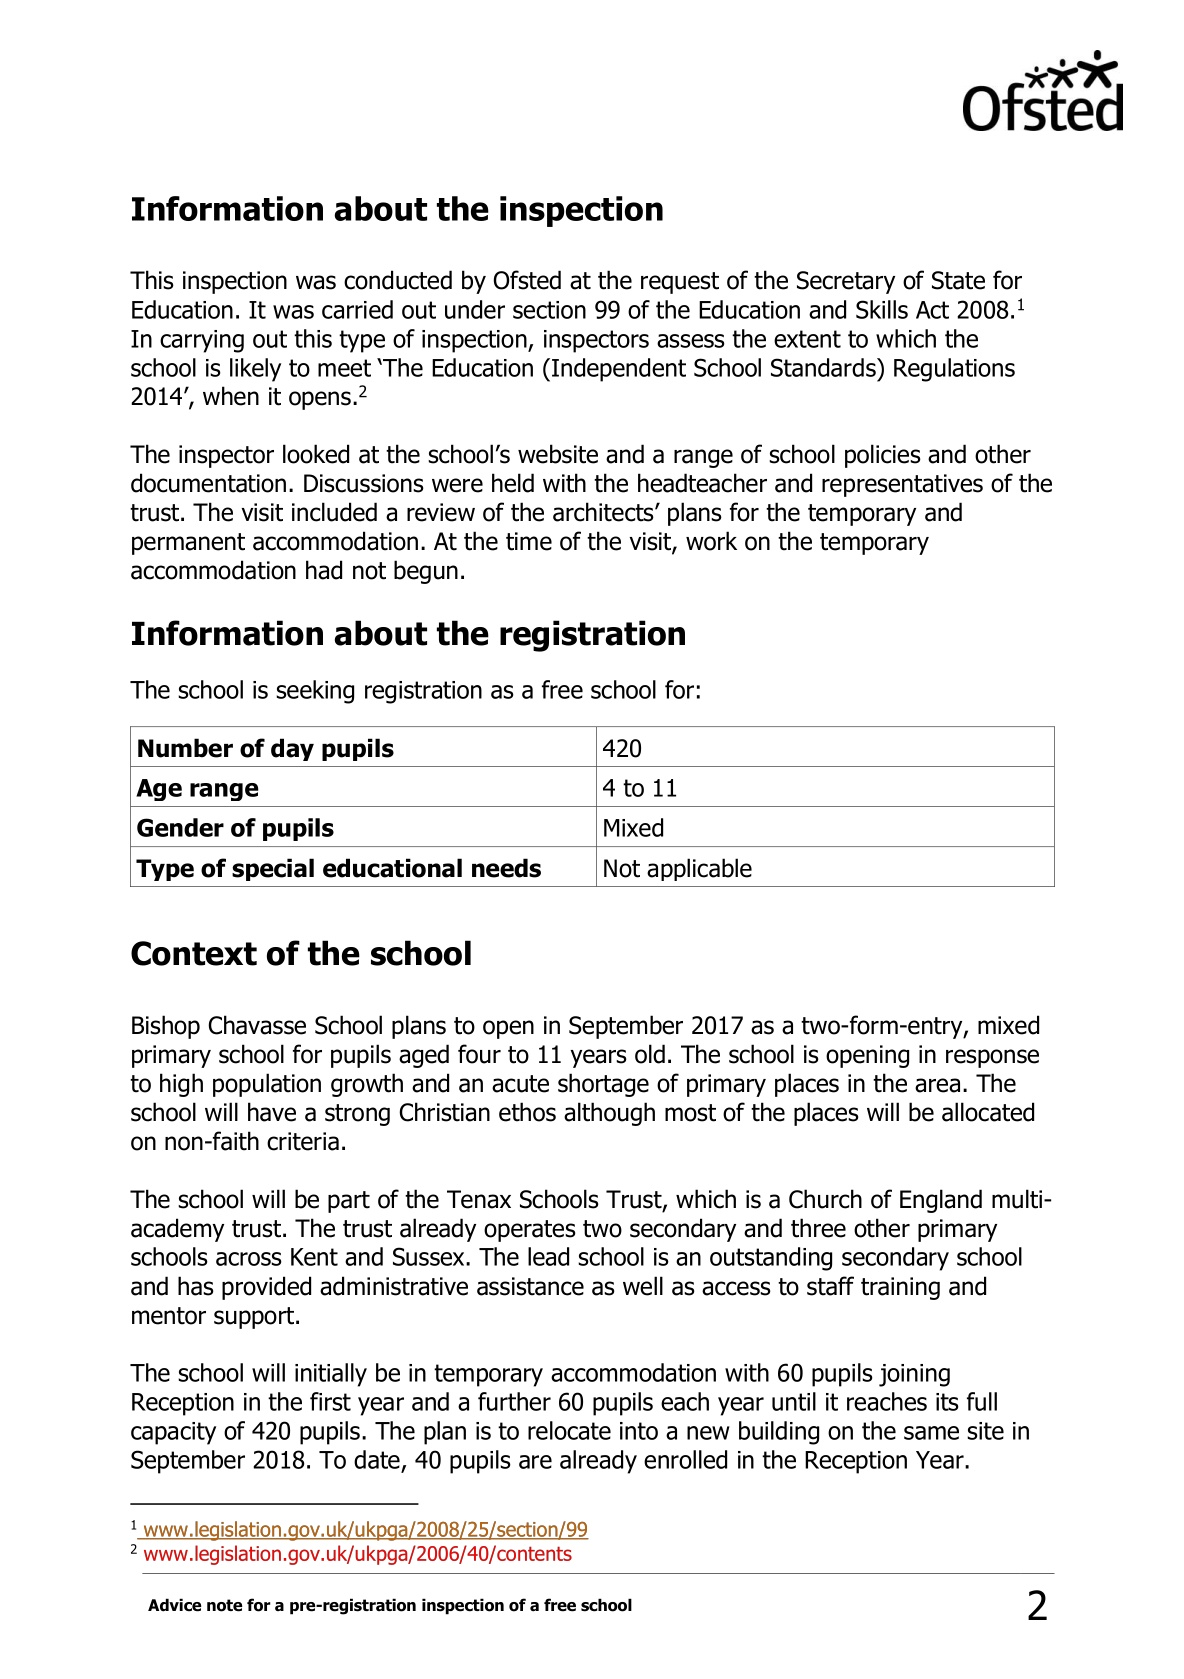full_lined: (128, 724, 1056, 889)
